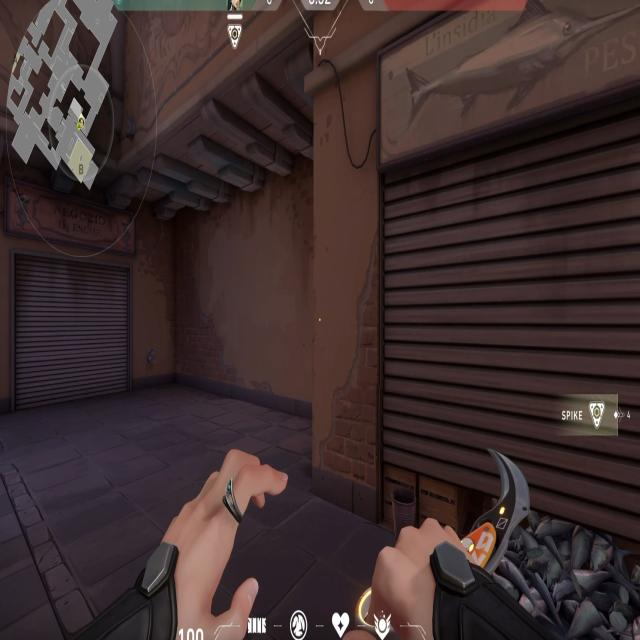B_Main_Corner: (296, 29, 640, 534)
